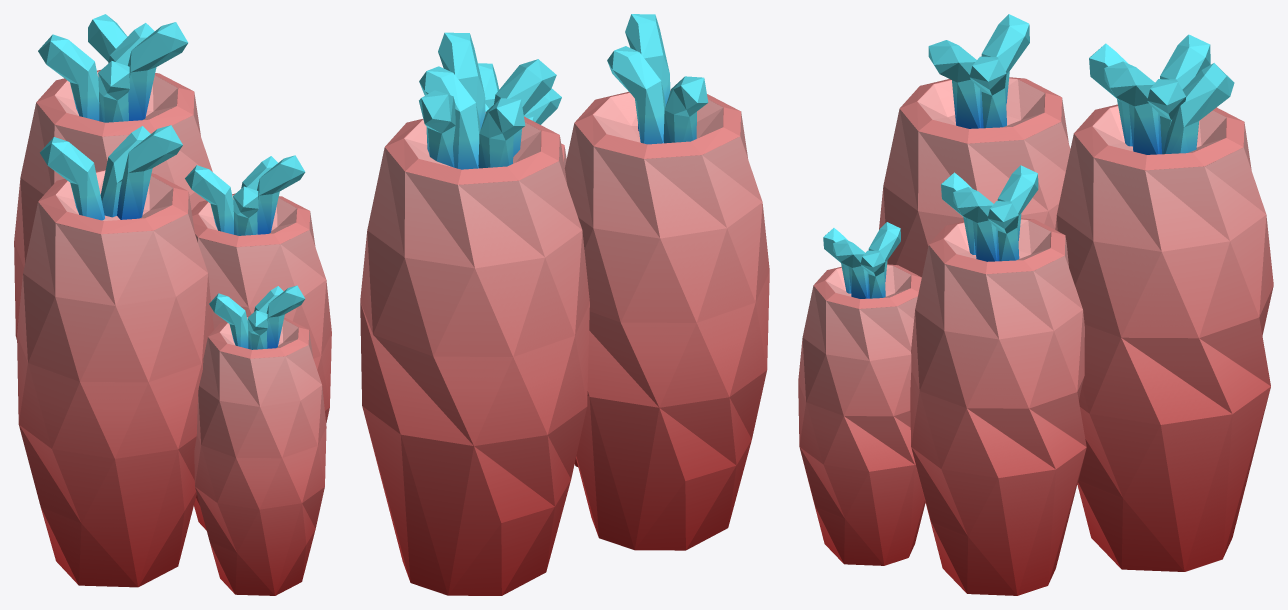
The model's file is SM_Spongia_24.fbx.
The picture shows the model from 3 angles, left to right: view 1: azimuth 30°, elevation 25°; view 2: azimuth 150°, elevation 25°; view 3: azimuth 270°, elevation 25°; orthographic projection. The views are drawn at different scales.
Visible parts, largest first — view 1: Spongia_24; view 2: Spongia_24; view 3: Spongia_24.
Boxes of the visible parts, x1,y1,x2,y2 form: Spongia_24: (14, 14, 331, 595); Spongia_24: (360, 14, 769, 595); Spongia_24: (798, 14, 1273, 595).
Size of the model in its own units: 68.11 by 101 by 86.98.
